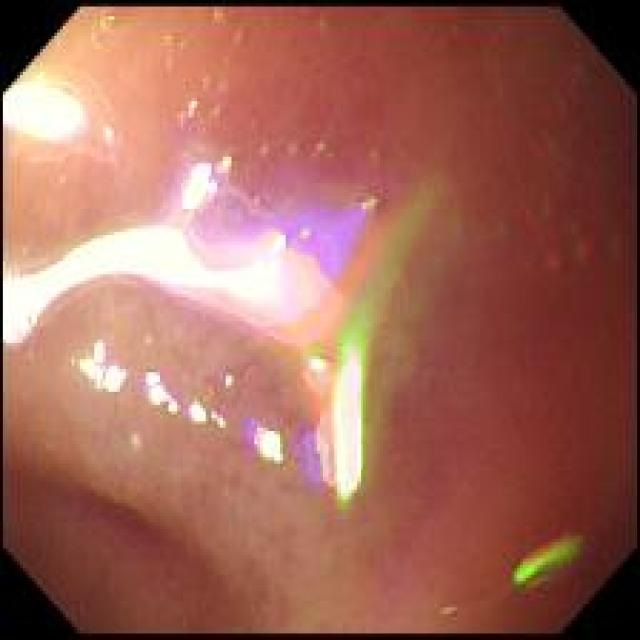color misalignment: (2, 98, 474, 513), (247, 127, 384, 179), (201, 28, 242, 132), (88, 9, 132, 43), (428, 23, 466, 60), (312, 8, 350, 43), (161, 29, 189, 76), (211, 6, 242, 29), (128, 429, 145, 452), (245, 118, 263, 134)
specularity: (475, 51, 625, 285), (4, 230, 279, 344), (4, 80, 88, 144), (515, 526, 586, 594), (335, 362, 361, 495), (241, 414, 286, 473), (78, 343, 128, 394), (144, 371, 180, 414), (184, 165, 218, 210), (186, 401, 226, 429), (260, 435, 282, 463), (103, 126, 118, 152), (274, 236, 287, 251), (26, 353, 42, 364), (225, 376, 235, 390), (313, 362, 327, 370), (221, 159, 232, 169), (191, 103, 197, 108)
